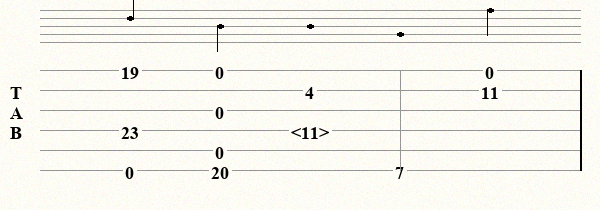0: (125, 162, 138, 178), (215, 62, 228, 78), (215, 102, 228, 118), (215, 142, 228, 158), (485, 62, 498, 78)
11: (481, 82, 503, 98)
19: (121, 62, 143, 78)
20: (211, 162, 233, 178)
23: (121, 122, 143, 138)
4: (305, 82, 318, 98)
7: (395, 162, 408, 178)
harmonic: (291, 122, 333, 138)
